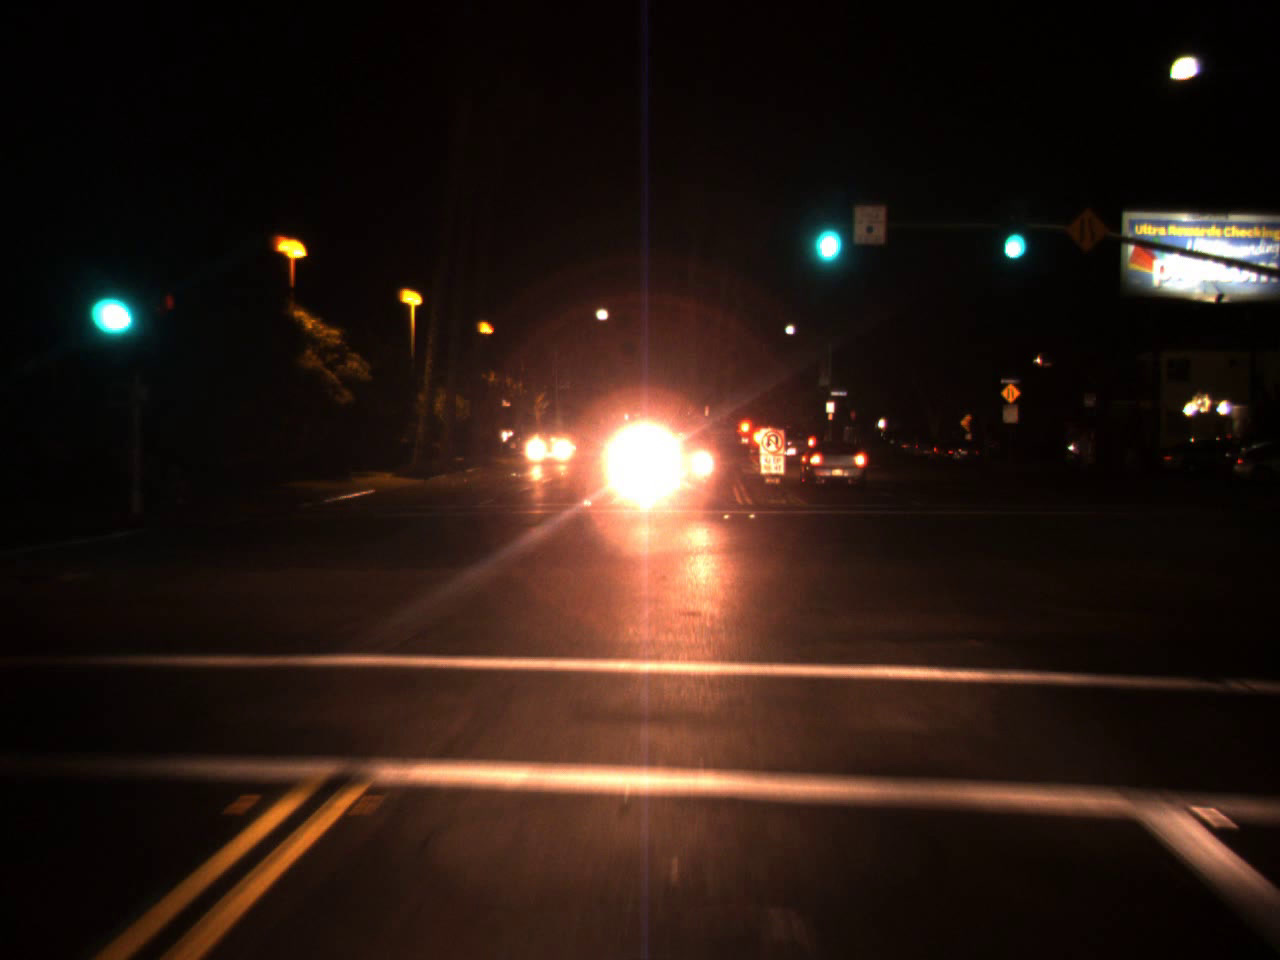go: (86, 262, 136, 343), (803, 187, 848, 274), (995, 206, 1029, 263)
